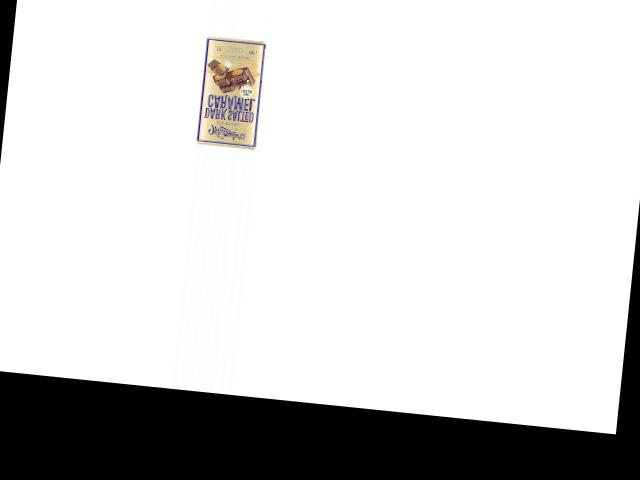chocolate: (194, 33, 271, 149)
